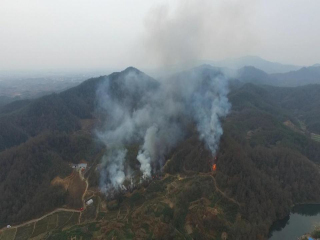smoke: (87, 5, 233, 196)
